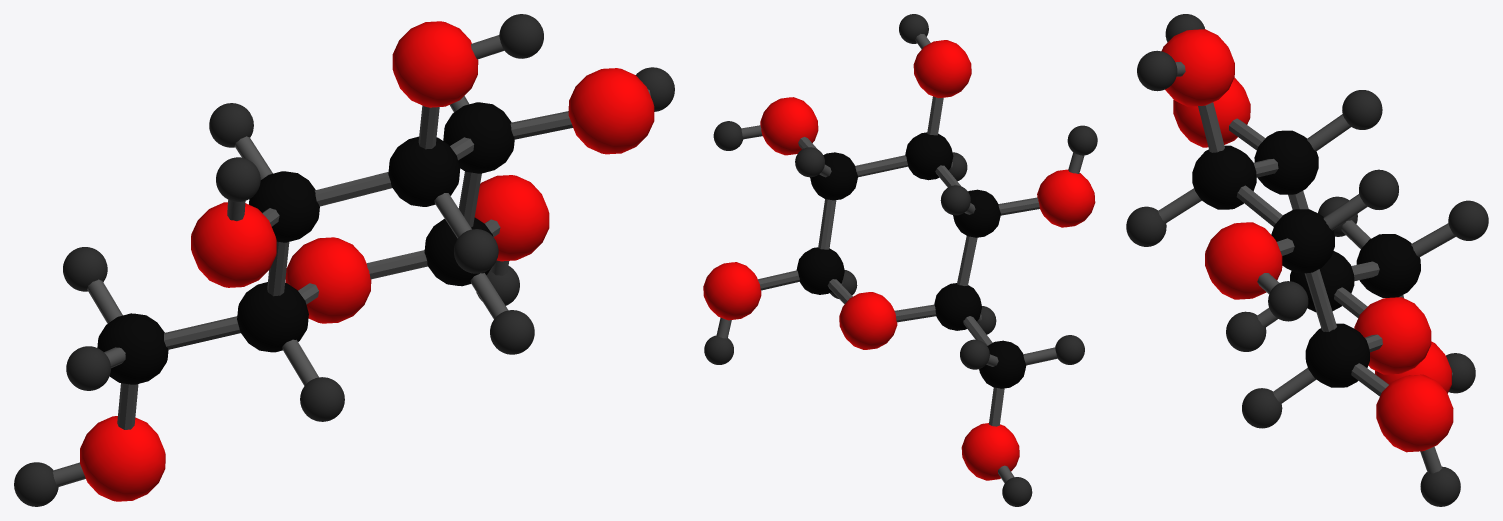
File: product_glucose_molecule_FBX.fbx
The picture shows the model from 3 angles, left to right: view 1: azimuth 30°, elevation 25°; view 2: azimuth 150°, elevation 25°; view 3: azimuth 270°, elevation 25°; orthographic projection. The views are drawn at different scales.
Parts seen in each view (by area): view 1: oxy_06, oxy_02, oxy_05, oxy_04, oxy_01, oxy_03, carbon_03, carbon_01, carbon_04, carbon_06, carbon_02, carbon_05 (+23 smaller); view 2: oxy_03, oxy_02, oxy_01, oxy_04, oxy_06, oxy_05, carbon_05, carbon_03, carbon_01, carbon_06, carbon_04, carbon_02 (+17 smaller); view 3: oxy_03, oxy_06, oxy_01, oxy_02, carbon_05, carbon_03, carbon_06, carbon_02, carbon_04, oxy_04, carbon_01, hydro_10 (+25 smaller).
Boxes of the visible parts, x1,y1,x2,y2 form: oxy_06: (568, 68, 654, 154); oxy_02: (392, 21, 478, 107); oxy_05: (80, 416, 165, 501); oxy_04: (191, 202, 276, 287); oxy_01: (285, 237, 371, 323); oxy_03: (474, 175, 549, 261); carbon_03: (388, 136, 460, 206); carbon_01: (237, 282, 308, 352); carbon_04: (443, 102, 514, 173); carbon_06: (97, 313, 168, 384); carbon_02: (249, 171, 319, 242); carbon_05: (424, 217, 493, 286); oxy_03: (703, 262, 761, 320); oxy_02: (913, 40, 971, 98); oxy_01: (839, 292, 897, 349); oxy_04: (1037, 169, 1095, 227); oxy_06: (760, 97, 818, 155); oxy_05: (961, 423, 1019, 480); carbon_05: (796, 247, 844, 294); carbon_03: (905, 132, 953, 180); carbon_01: (934, 283, 981, 330); carbon_06: (979, 340, 1026, 388); carbon_04: (810, 152, 857, 200); carbon_02: (953, 189, 1000, 237); oxy_03: (1376, 374, 1453, 452); oxy_06: (1205, 222, 1282, 299); oxy_01: (1354, 297, 1431, 374); oxy_02: (1161, 29, 1234, 106); carbon_05: (1305, 323, 1369, 387); carbon_03: (1192, 145, 1256, 209); carbon_06: (1356, 234, 1420, 297); carbon_02: (1254, 130, 1318, 194); carbon_04: (1271, 209, 1334, 273); oxy_04: (1173, 77, 1250, 147); carbon_01: (1290, 251, 1354, 312); hydro_10: (1268, 281, 1308, 321).
Bounding box in the file's own units: 49.02 × 29.68 × 43.31.
